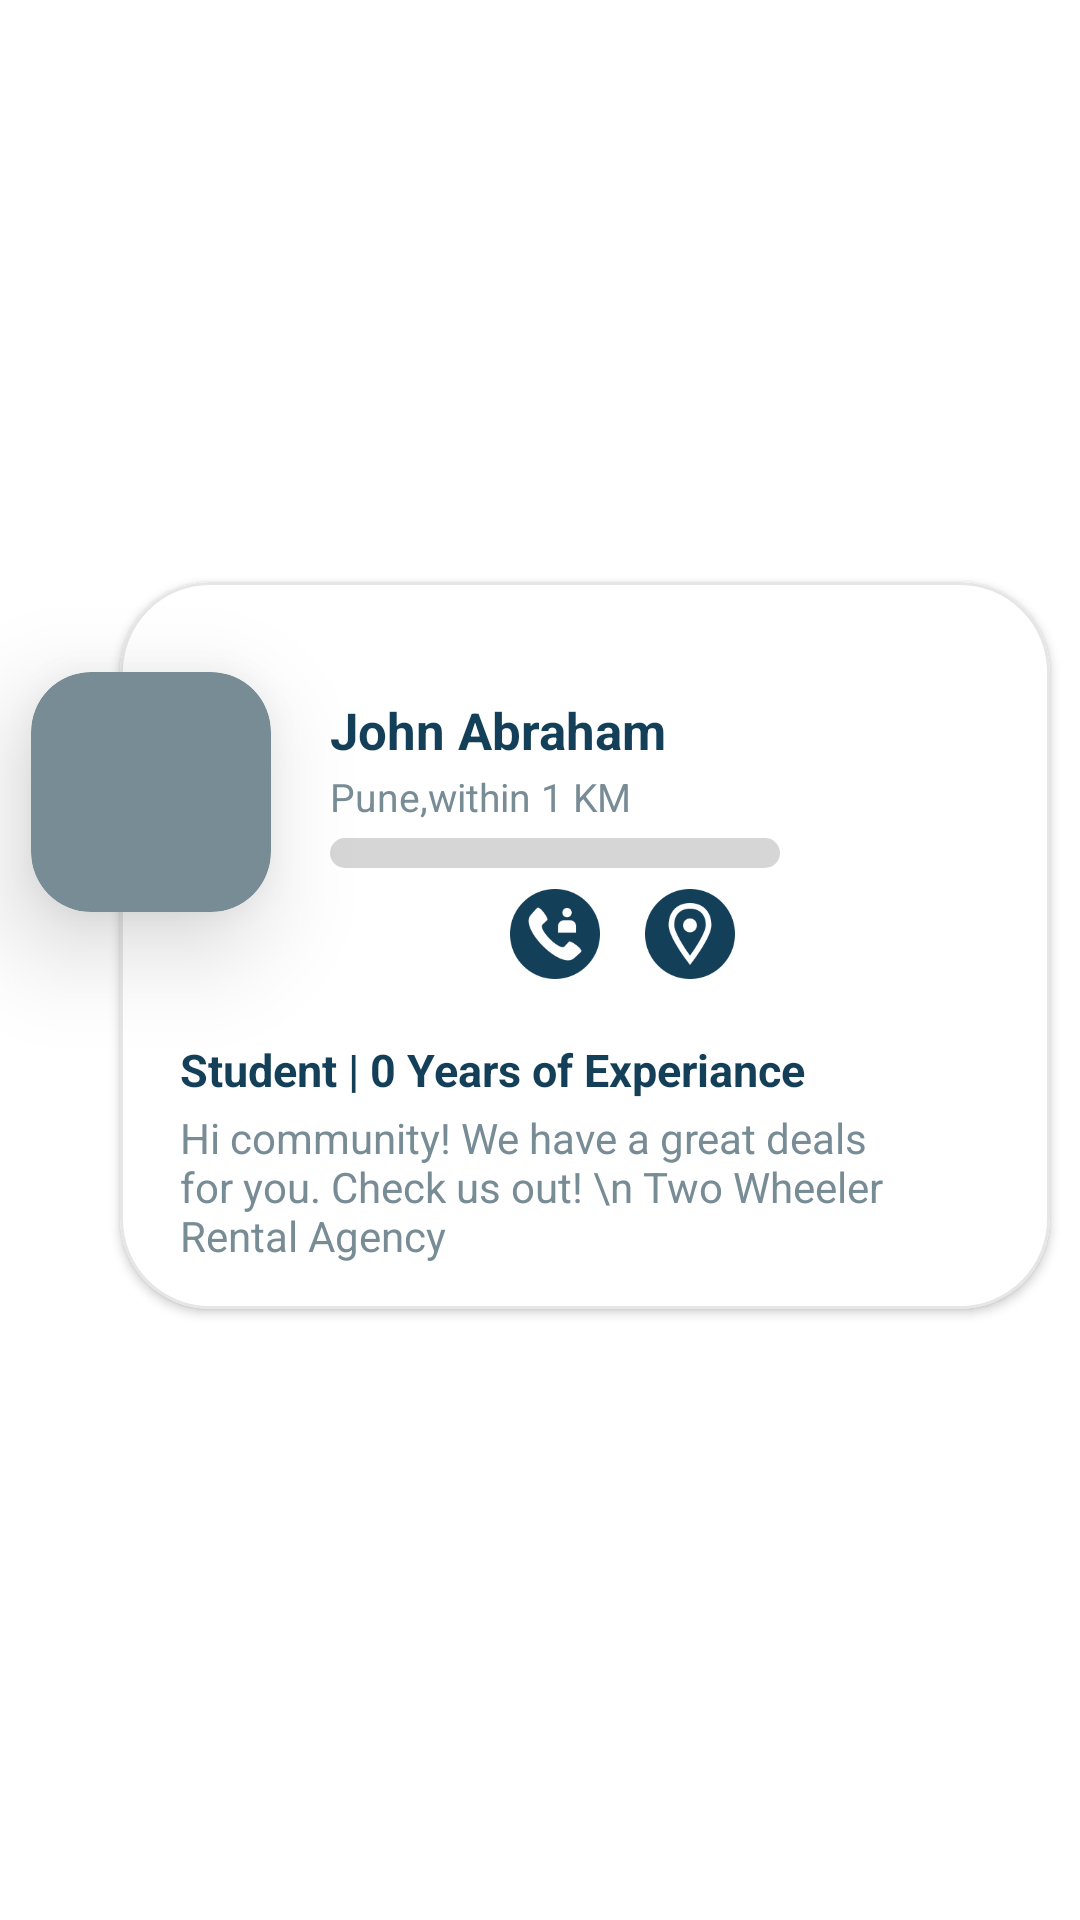

Screen size 1080px×1920px. Icon name, then its box in pixels as (x1, y1, x2, y2):
location: (645, 889, 735, 979)
